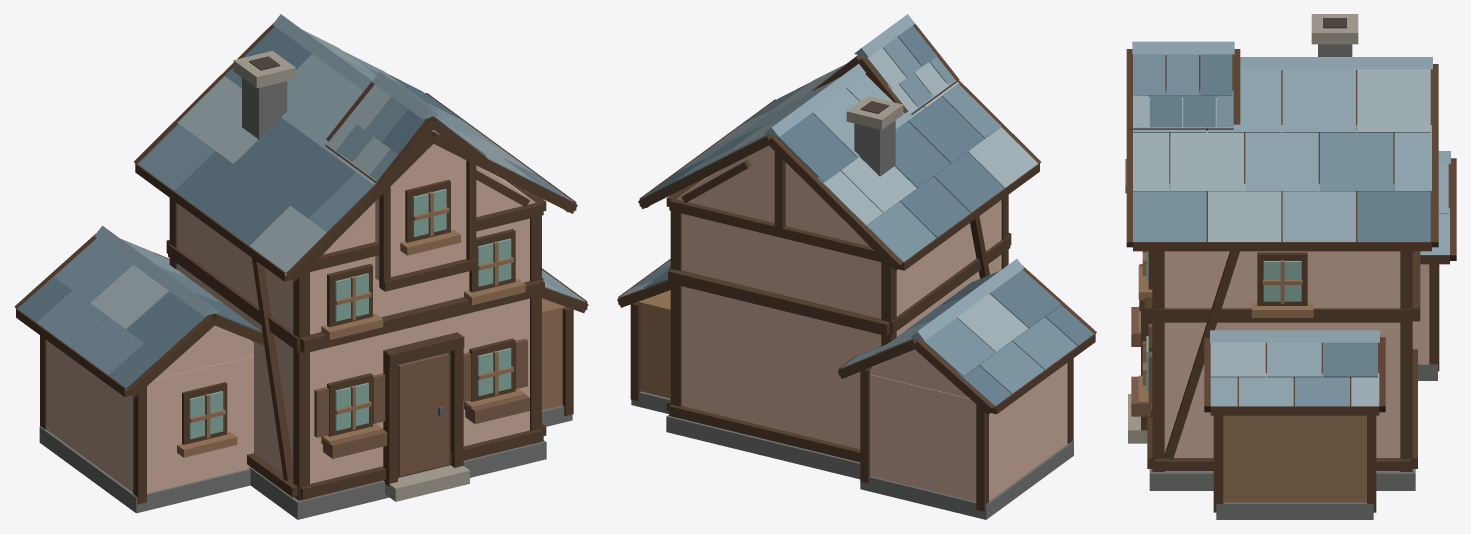
File: ENV_Cottage_C_LOD1.glb
3 views of the same model, side by side, from view 1: azimuth 30°, elevation 25°; view 2: azimuth 150°, elevation 25°; view 3: azimuth 270°, elevation 25° (orthographic). The views are drawn at different scales.
Parts seen in each view (by area): view 1: ENV_Cottage_C_LOD1_roof_upper_roofTiles, ENV_Cottage_C_LOD1_shell_upper_plasterRose, ENV_Cottage_C_LOD1_shell_upper_woodDark, ENV_Cottage_C_LOD1_wing_plasterRose, ENV_Cottage_C_LOD1_wing_roofTiles, ENV_Cottage_C_LOD1_shell_upper_wood, ENV_Cottage_C_LOD1_upper_rooms_woodDark, ENV_Cottage_C_LOD1_wing_woodDark, ENV_Cottage_C_LOD1_master_gable_woodDark, ENV_Cottage_C_LOD1_roof_upper_woodDark, ENV_Cottage_C_LOD1_master_gable_roofTiles, ENV_Cottage_C_LOD1_master_gable_plasterRose (+16 smaller); view 2: ENV_Cottage_C_LOD1_shell_upper_plasterRose, ENV_Cottage_C_LOD1_roof_upper_roofTiles, ENV_Cottage_C_LOD1_wing_plasterRose, ENV_Cottage_C_LOD1_wing_roofTiles, ENV_Cottage_C_LOD1_shell_upper_woodDark, ENV_Cottage_C_LOD1_wing_woodDark, ENV_Cottage_C_LOD1_roof_upper_woodDark, ENV_Cottage_C_LOD1_upper_rooms_woodDark, ENV_Cottage_C_LOD1_master_gable_roofTiles, ENV_Cottage_C_LOD1_foundation_stoneDark, ENV_Cottage_C_LOD1_wing_stoneDark, ENV_Cottage_C_LOD1_shed_woodLight (+4 smaller); view 3: ENV_Cottage_C_LOD1_roof_upper_roofTiles, ENV_Cottage_C_LOD1_shell_upper_plasterRose, ENV_Cottage_C_LOD1_shed_roofTiles, ENV_Cottage_C_LOD1_shed_woodLight, ENV_Cottage_C_LOD1_shell_upper_woodDark, ENV_Cottage_C_LOD1_master_gable_roofTiles, ENV_Cottage_C_LOD1_roof_upper_woodDark, ENV_Cottage_C_LOD1_upper_rooms_woodDark, ENV_Cottage_C_LOD1_shed_woodDark, ENV_Cottage_C_LOD1_shed_stoneDark, ENV_Cottage_C_LOD1_wing_woodDark, ENV_Cottage_C_LOD1_foundation_stoneDark (+10 smaller).
Boxes of the visible parts, x1,y1,x2,y2 form: ENV_Cottage_C_LOD1_roof_upper_roofTiles: (138, 14, 575, 275); ENV_Cottage_C_LOD1_shell_upper_plasterRose: (177, 165, 535, 483); ENV_Cottage_C_LOD1_shell_upper_woodDark: (169, 170, 546, 500); ENV_Cottage_C_LOD1_wing_plasterRose: (46, 325, 253, 493); ENV_Cottage_C_LOD1_wing_roofTiles: (17, 225, 260, 391); ENV_Cottage_C_LOD1_shell_upper_wood: (314, 338, 527, 476); ENV_Cottage_C_LOD1_upper_rooms_woodDark: (166, 229, 544, 353); ENV_Cottage_C_LOD1_wing_woodDark: (14, 234, 264, 504); ENV_Cottage_C_LOD1_master_gable_woodDark: (325, 82, 487, 291); ENV_Cottage_C_LOD1_roof_upper_woodDark: (134, 23, 577, 281); ENV_Cottage_C_LOD1_master_gable_roofTiles: (327, 71, 483, 183); ENV_Cottage_C_LOD1_master_gable_plasterRose: (375, 144, 466, 280); ENV_Cottage_C_LOD1_shell_upper_plasterRose: (676, 146, 1001, 449); ENV_Cottage_C_LOD1_roof_upper_roofTiles: (642, 56, 1038, 262); ENV_Cottage_C_LOD1_wing_plasterRose: (870, 349, 1067, 501); ENV_Cottage_C_LOD1_wing_roofTiles: (840, 259, 1093, 408); ENV_Cottage_C_LOD1_shell_upper_woodDark: (666, 151, 1008, 462); ENV_Cottage_C_LOD1_wing_woodDark: (837, 265, 1096, 511); ENV_Cottage_C_LOD1_roof_upper_woodDark: (638, 80, 1040, 270); ENV_Cottage_C_LOD1_upper_rooms_woodDark: (668, 233, 1011, 335); ENV_Cottage_C_LOD1_master_gable_roofTiles: (814, 14, 955, 113); ENV_Cottage_C_LOD1_foundation_stoneDark: (666, 415, 860, 479); ENV_Cottage_C_LOD1_wing_stoneDark: (860, 441, 1073, 519); ENV_Cottage_C_LOD1_shed_woodLight: (637, 290, 670, 398); ENV_Cottage_C_LOD1_roof_upper_roofTiles: (1133, 57, 1432, 241); ENV_Cottage_C_LOD1_shell_upper_plasterRose: (1164, 251, 1400, 471); ENV_Cottage_C_LOD1_shed_roofTiles: (1210, 330, 1379, 406); ENV_Cottage_C_LOD1_shed_woodLight: (1223, 415, 1366, 502); ENV_Cottage_C_LOD1_shell_upper_woodDark: (1139, 251, 1417, 471); ENV_Cottage_C_LOD1_master_gable_roofTiles: (1132, 41, 1234, 130); ENV_Cottage_C_LOD1_roof_upper_woodDark: (1126, 64, 1438, 251); ENV_Cottage_C_LOD1_upper_rooms_woodDark: (1144, 251, 1420, 322); ENV_Cottage_C_LOD1_shed_woodDark: (1204, 337, 1385, 512); ENV_Cottage_C_LOD1_shed_stoneDark: (1216, 502, 1373, 519); ENV_Cottage_C_LOD1_wing_woodDark: (1420, 158, 1456, 371); ENV_Cottage_C_LOD1_foundation_stoneDark: (1149, 469, 1415, 490).
Size of the model in its own units: 7.18 by 5.88 by 4.54.
